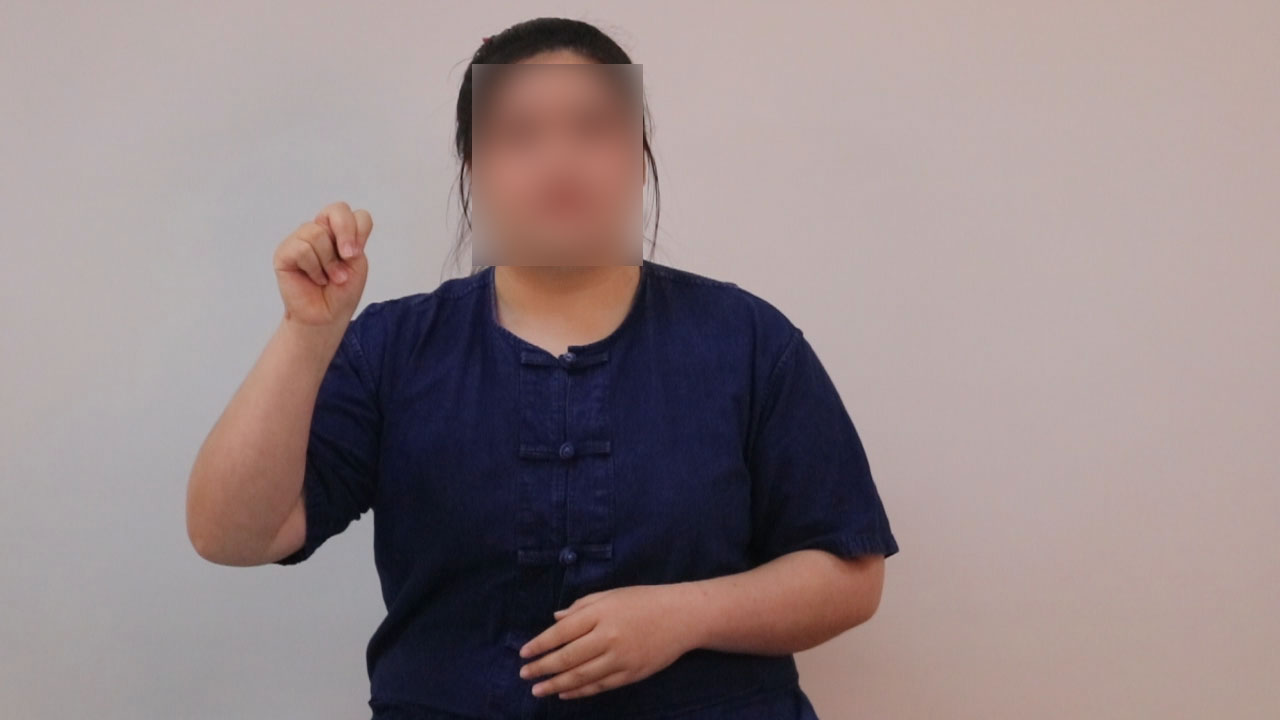nor: (259, 189, 384, 327)
